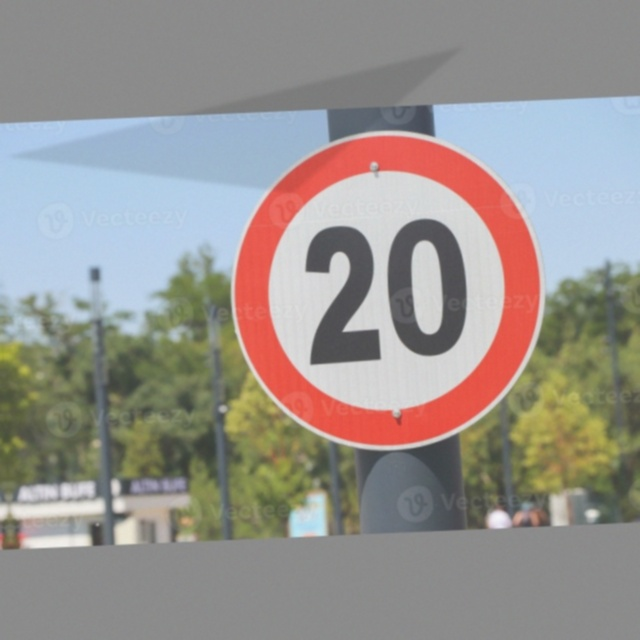Speed_Limit_20: (229, 120, 544, 443)
